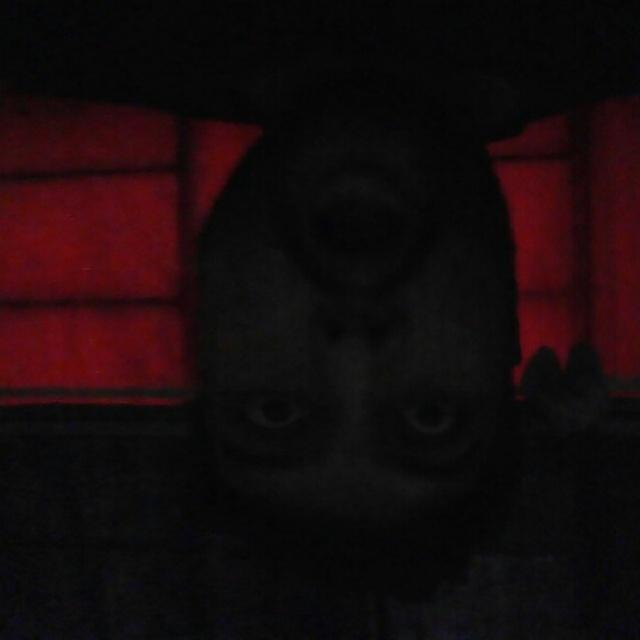Surprised: (146, 122, 555, 577)
